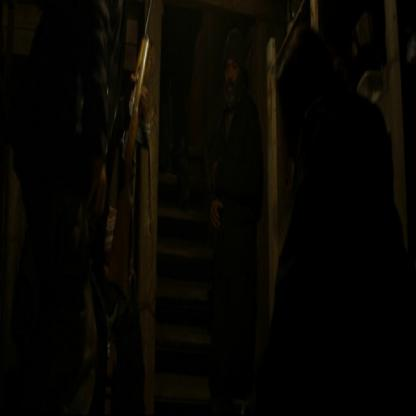Guns: (102, 0, 155, 314)
